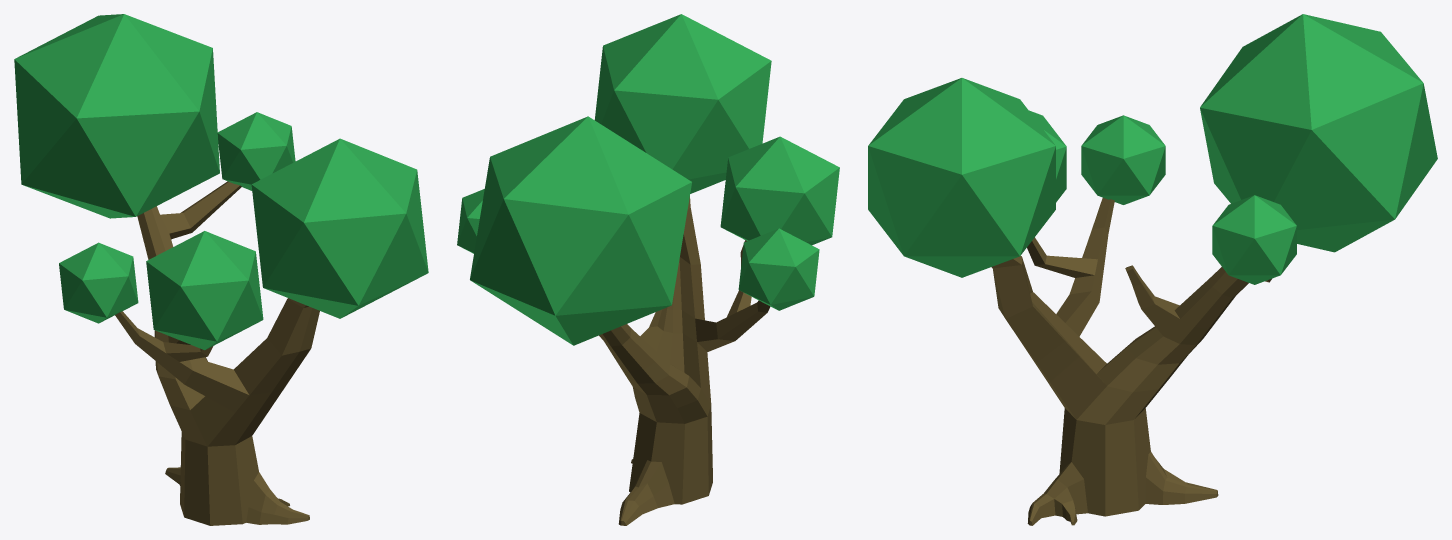
File: Arbol.glb
The picture shows the model from 3 angles, left to right: view 1: azimuth 30°, elevation 25°; view 2: azimuth 150°, elevation 25°; view 3: azimuth 270°, elevation 25°; orthographic projection. The views are drawn at different scales.
Visible parts, largest first — view 1: Icosphere, Icosphere.001, Cylinder, Icosphere.002, Icosphere.004, Icosphere.003; view 2: Icosphere, Icosphere.001, Cylinder, Icosphere.002, Icosphere.004, Icosphere.003; view 3: Icosphere, Cylinder, Icosphere.001, Icosphere.003, Icosphere.004, Icosphere.002.
Part boxes in pixels (bbox=[...]): Icosphere: bbox=[14, 14, 219, 218]; Icosphere.001: bbox=[251, 138, 428, 318]; Cylinder: bbox=[115, 181, 319, 525]; Icosphere.002: bbox=[146, 231, 263, 350]; Icosphere.004: bbox=[59, 242, 138, 323]; Icosphere.003: bbox=[217, 112, 295, 190]; Icosphere: bbox=[470, 116, 691, 345]; Icosphere.001: bbox=[594, 14, 771, 193]; Cylinder: bbox=[599, 196, 770, 525]; Icosphere.002: bbox=[720, 136, 839, 245]; Icosphere.004: bbox=[738, 228, 819, 310]; Icosphere.003: bbox=[457, 189, 484, 253]; Icosphere: bbox=[1200, 14, 1437, 252]; Cylinder: bbox=[991, 198, 1271, 525]; Icosphere.001: bbox=[868, 78, 1055, 277]; Icosphere.003: bbox=[1212, 195, 1296, 284]; Icosphere.004: bbox=[1081, 115, 1165, 204]; Icosphere.002: bbox=[1029, 110, 1066, 202].
Size of the model in its own units: 7.72 by 11.1 by 11.98.
